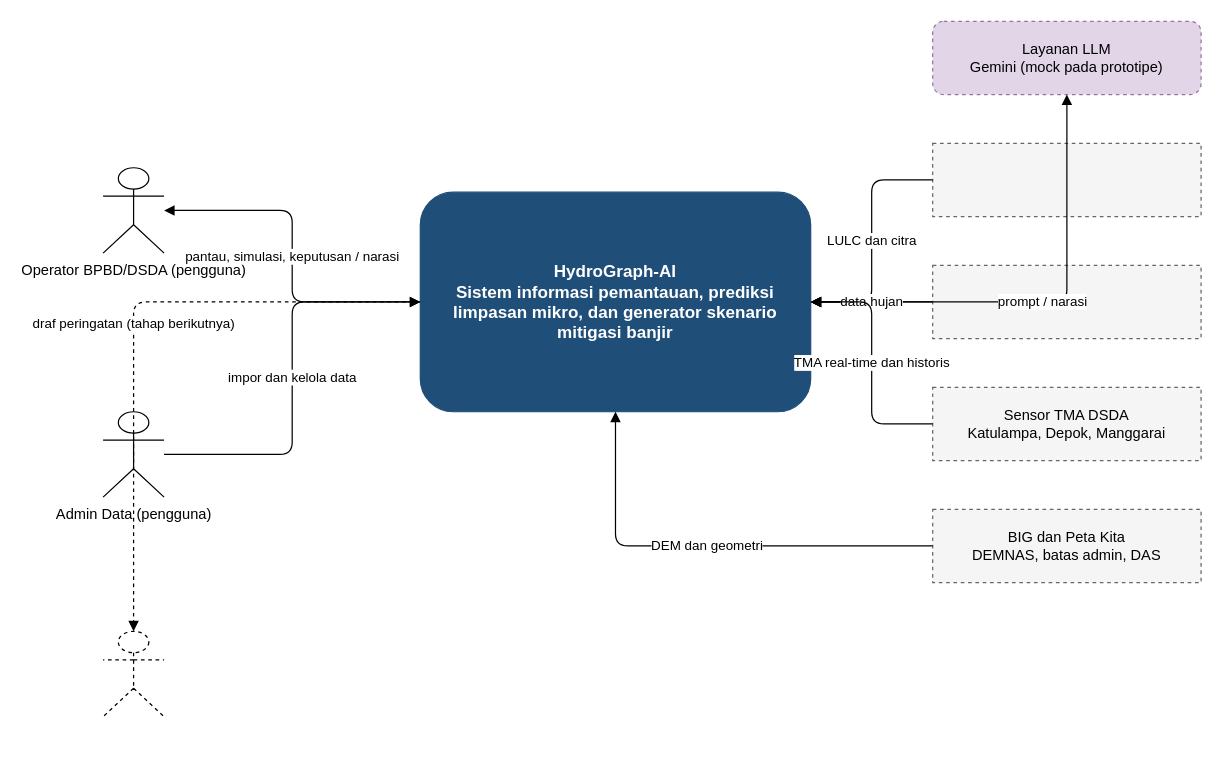
Image size: 1222x764. Some labels were removed from this diagram. The shapes that lost their labels are listed below. From the top down, each one's box as (x1, y1, x2, y2) in pixels, then its label:
(931, 142, 1201, 217): Google Earth Engine Sentinel-2, Landsat
(931, 264, 1201, 339): BMKG dan CHIRPS Data hujan dan prakiraan
(102, 630, 164, 717): Masyarakat (tahap berikutnya)
